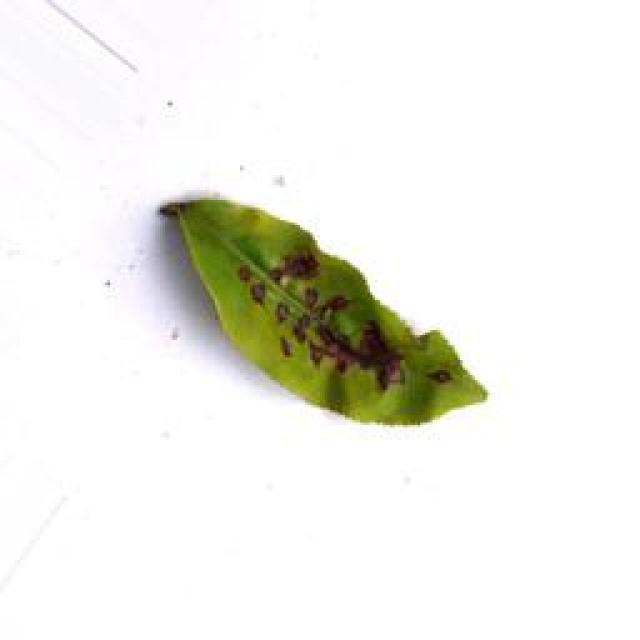Helopeltis: (152, 187, 514, 447)
